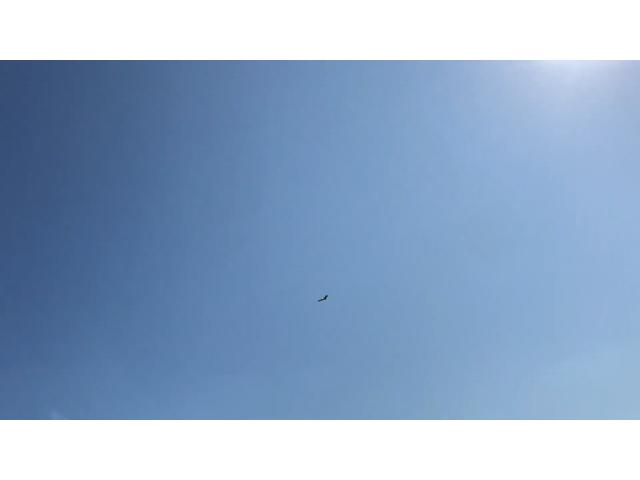Anti-Drone: (304, 290, 344, 305)
